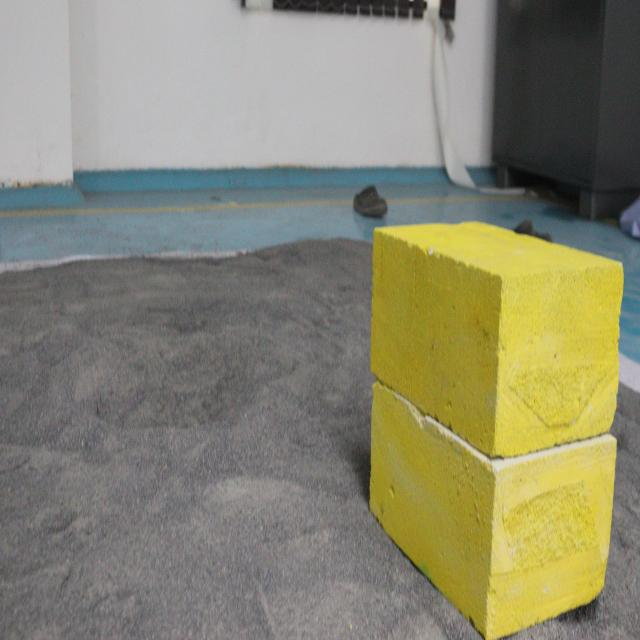box: (368, 218, 618, 640)
crater: (66, 314, 282, 442)
